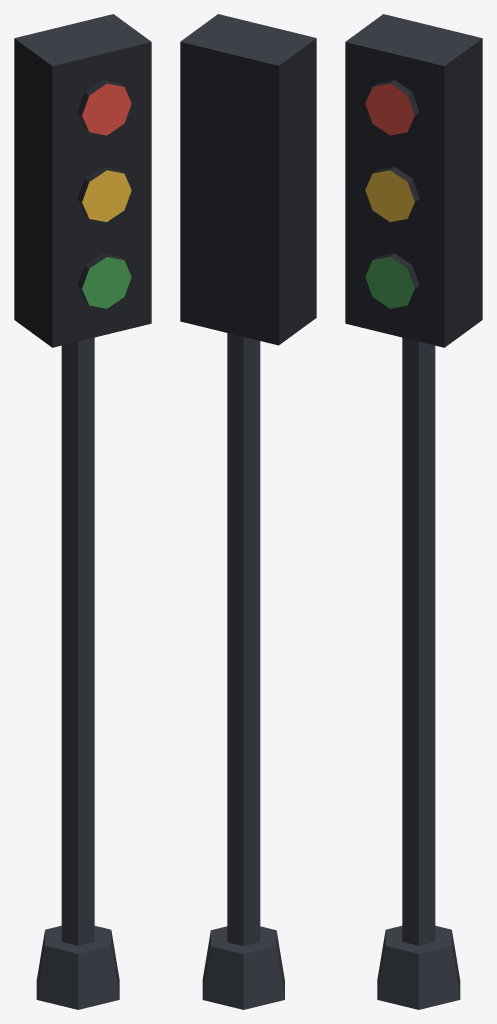
File: P_TrafficLight2.fbx
3 views of the same model, side by side, from view 1: azimuth 30°, elevation 25°; view 2: azimuth 150°, elevation 25°; view 3: azimuth 330°, elevation 25° (orthographic).
Parts seen in each view (by area): view 1: P_TrafficLight2; view 2: P_TrafficLight2; view 3: P_TrafficLight2.
Boxes of the visible parts, left/top/right/bottom form: P_TrafficLight2: left=14, top=14, right=151, bottom=1009; P_TrafficLight2: left=180, top=14, right=316, bottom=1009; P_TrafficLight2: left=345, top=14, right=482, bottom=1009.
Size of the model in its own units: 0.24 by 2.2 by 0.2066.
